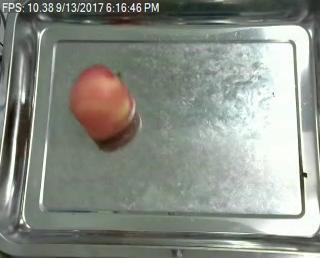apple: (69, 64, 136, 140)
